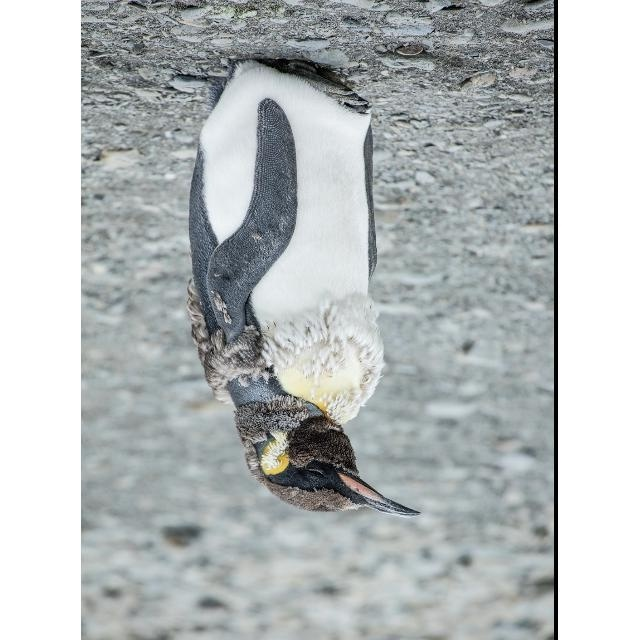penguin: (186, 56, 421, 519)
